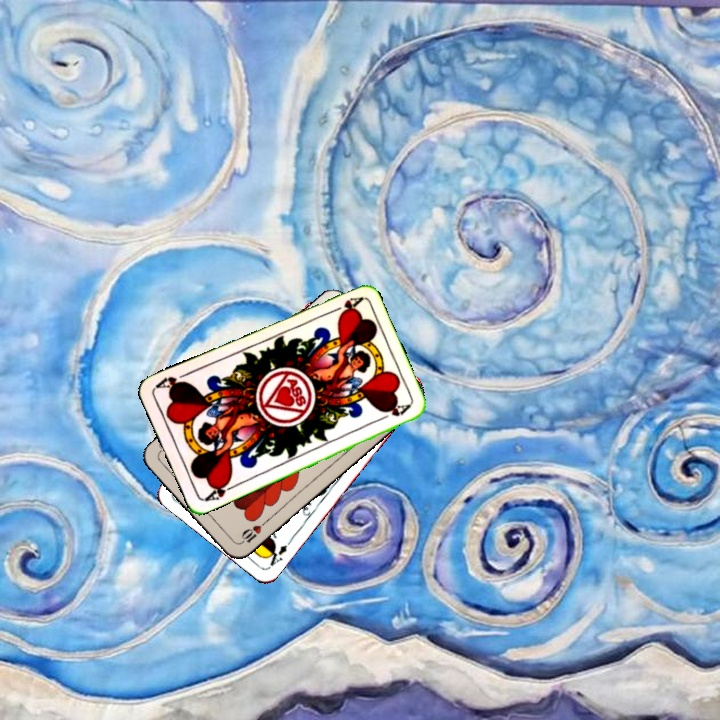EA: (261, 535, 295, 570)
H10: (235, 517, 269, 547)
HA: (201, 476, 240, 504), (325, 293, 364, 317)
